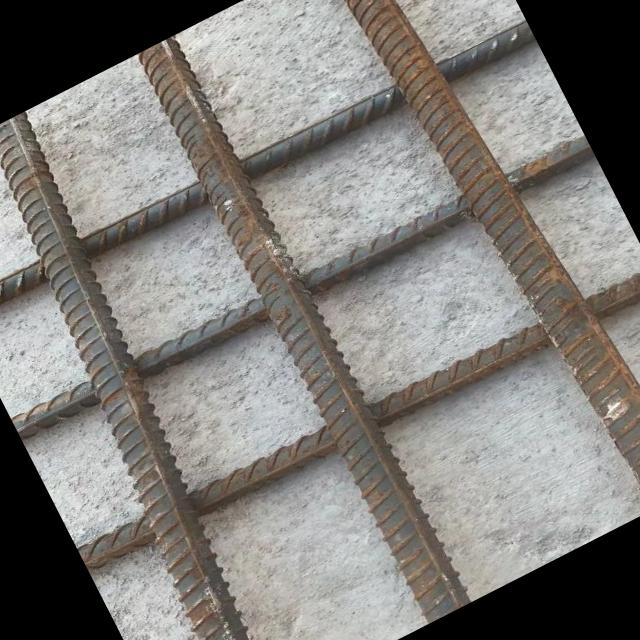ribbed bar: (132, 30, 474, 626), (10, 127, 596, 449), (76, 257, 640, 582), (314, 0, 640, 533), (0, 11, 536, 332), (0, 110, 316, 640)
